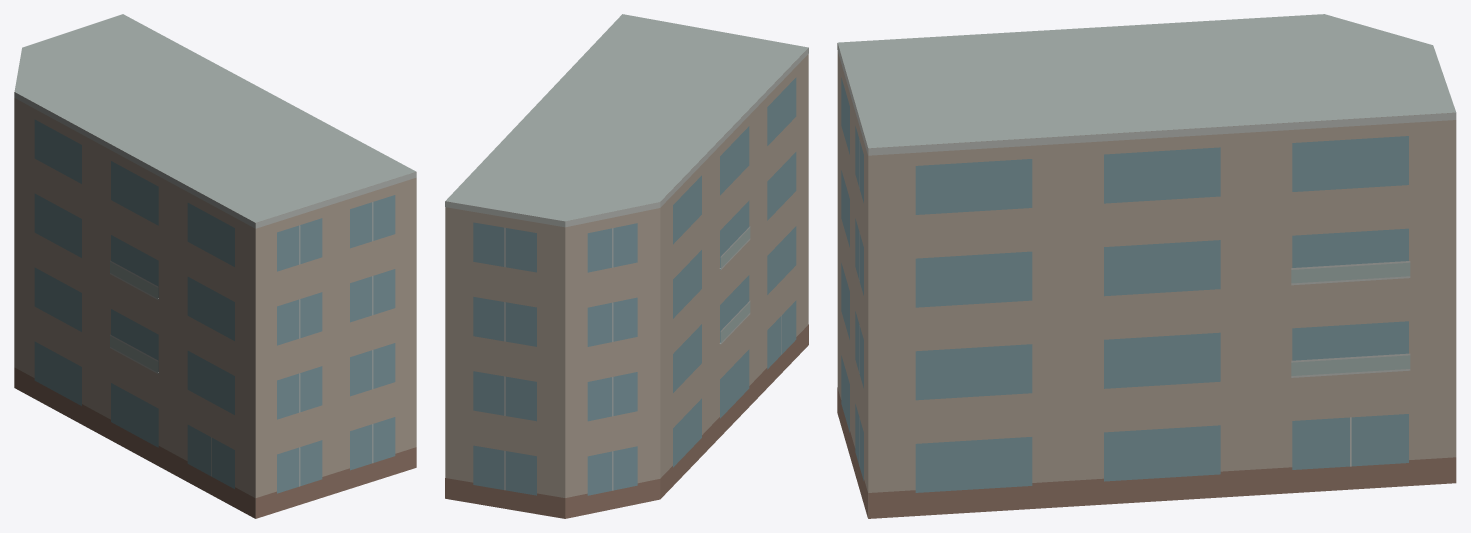
Rendered from survey-upis-32995762.glb.
3 renders of one model, left to right at view 1: azimuth 30°, elevation 25°; view 2: azimuth 150°, elevation 25°; view 3: azimuth 270°, elevation 25°, orthographic. The views are drawn at different scales.
Parts seen in each view (by area): view 1: survey-upis-32995762.tmp; view 2: survey-upis-32995762.tmp; view 3: survey-upis-32995762.tmp.
Boxes of the visible parts, x1,y1,x2,y2 form: survey-upis-32995762.tmp: (14,14,416,518); survey-upis-32995762.tmp: (445,14,808,518); survey-upis-32995762.tmp: (837,14,1456,518).
Bounding box in the file's own units: 9.49 × 12.2 × 18.47.
